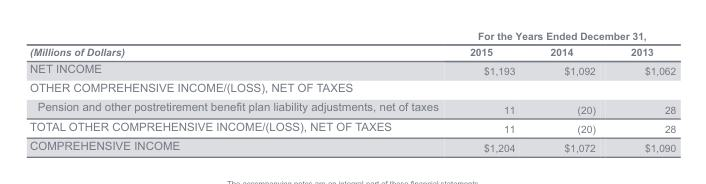table: (29, 29, 675, 153)
table column: (29, 29, 453, 153), (531, 29, 612, 153), (453, 29, 531, 153), (612, 29, 675, 153)
table column header: (29, 29, 675, 59)
table projected row header: (29, 78, 675, 96)
table row: (29, 96, 675, 116), (29, 116, 675, 136), (29, 59, 675, 78), (29, 78, 675, 96), (29, 136, 675, 153), (29, 43, 675, 59), (29, 29, 675, 43)
table spanning cell: (29, 29, 453, 59), (453, 29, 675, 43)
